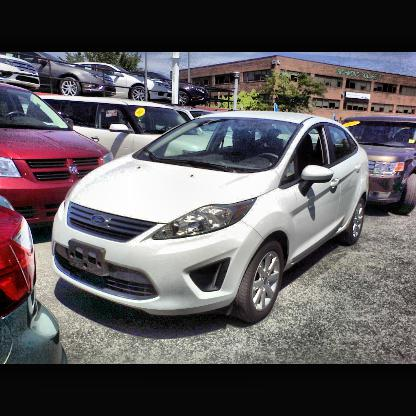Ford Fiesta Sedan 2012: (52, 111, 369, 343)
